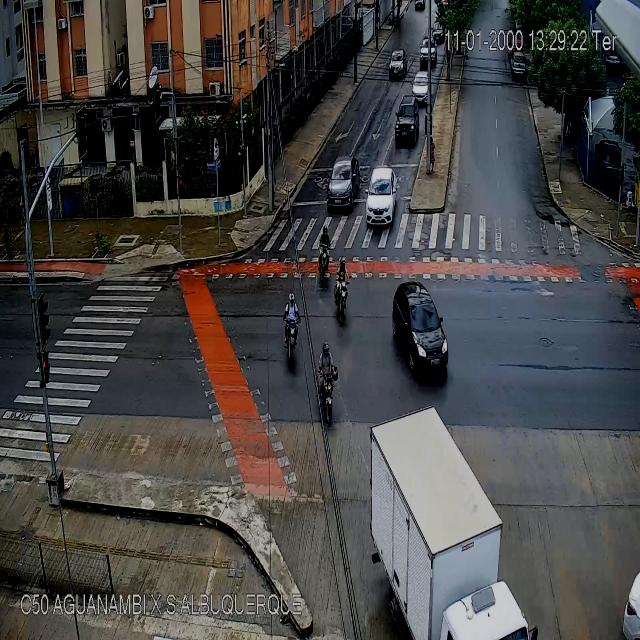Car: (390, 280, 448, 380), (365, 166, 398, 228), (325, 156, 361, 211), (394, 92, 420, 142), (411, 69, 429, 105), (389, 48, 407, 76), (421, 38, 435, 68), (512, 50, 527, 76), (432, 18, 445, 47)
Motorcycle: (319, 339, 338, 431), (283, 292, 301, 372), (334, 258, 351, 327), (318, 224, 331, 292)
Truck: (369, 406, 540, 639)
